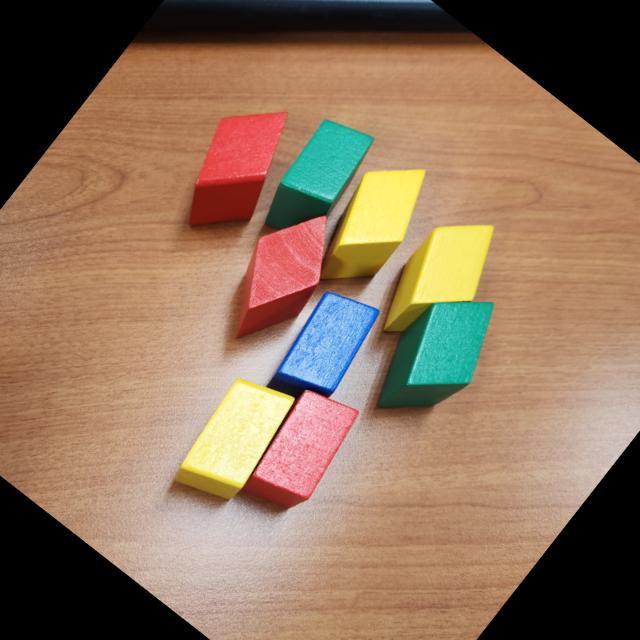blue: (257, 276, 393, 424)
green: (356, 270, 518, 444), (249, 106, 381, 251)
red: (200, 189, 359, 362), (156, 83, 316, 254), (232, 376, 371, 526)
yellow: (362, 197, 518, 366), (296, 140, 446, 304), (162, 362, 306, 519)
